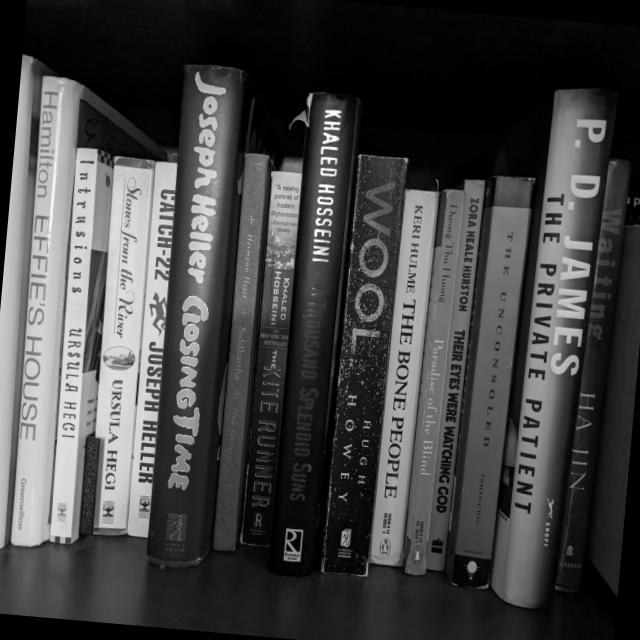book: (2, 75, 170, 555), (489, 83, 618, 610), (141, 64, 253, 569), (261, 91, 361, 579), (441, 173, 535, 589), (321, 154, 408, 576), (553, 157, 635, 594), (368, 188, 439, 566), (48, 146, 115, 545), (85, 156, 155, 536), (419, 178, 486, 571), (209, 153, 273, 553), (399, 188, 465, 575), (239, 170, 302, 546), (125, 160, 178, 537)
